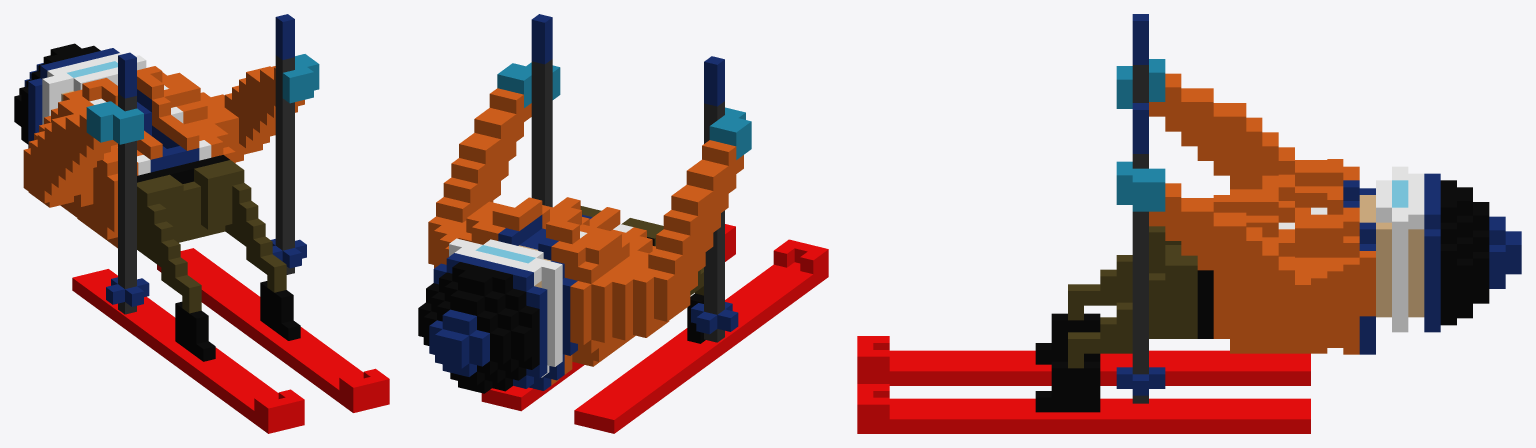
Rendered from Skieur_Chute_06.obj.
3 views of the same model, side by side, from view 1: azimuth 30°, elevation 25°; view 2: azimuth 150°, elevation 25°; view 3: azimuth 270°, elevation 25° (orthographic). The views are drawn at different scales.
Bounding box in the file's own units: 18 × 23 × 41.
1 material, 1 textured.
